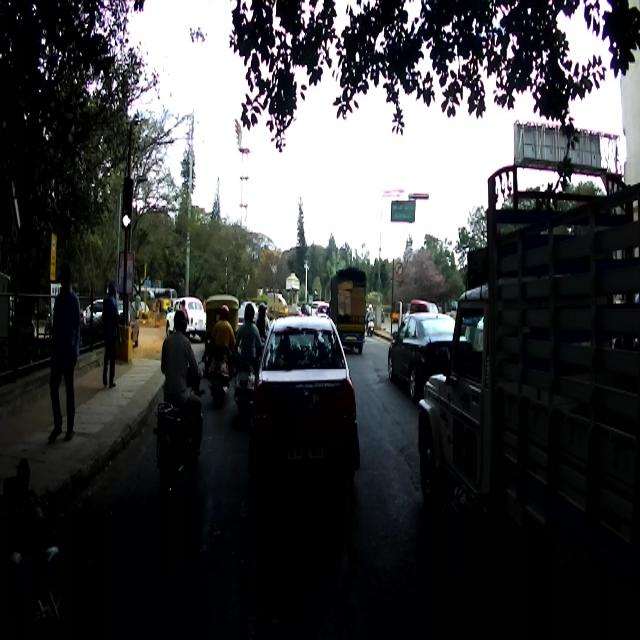Car_Hyundai: (388, 311, 456, 400)
Car_Toyota: (247, 312, 361, 493)
car_Ambassador: (164, 296, 204, 337)
motorcycle: (0, 457, 70, 639)
motorcycle_Hero: (151, 353, 207, 506)
scooter: (232, 336, 266, 425), (204, 328, 234, 409)
truck: (414, 160, 640, 618)
